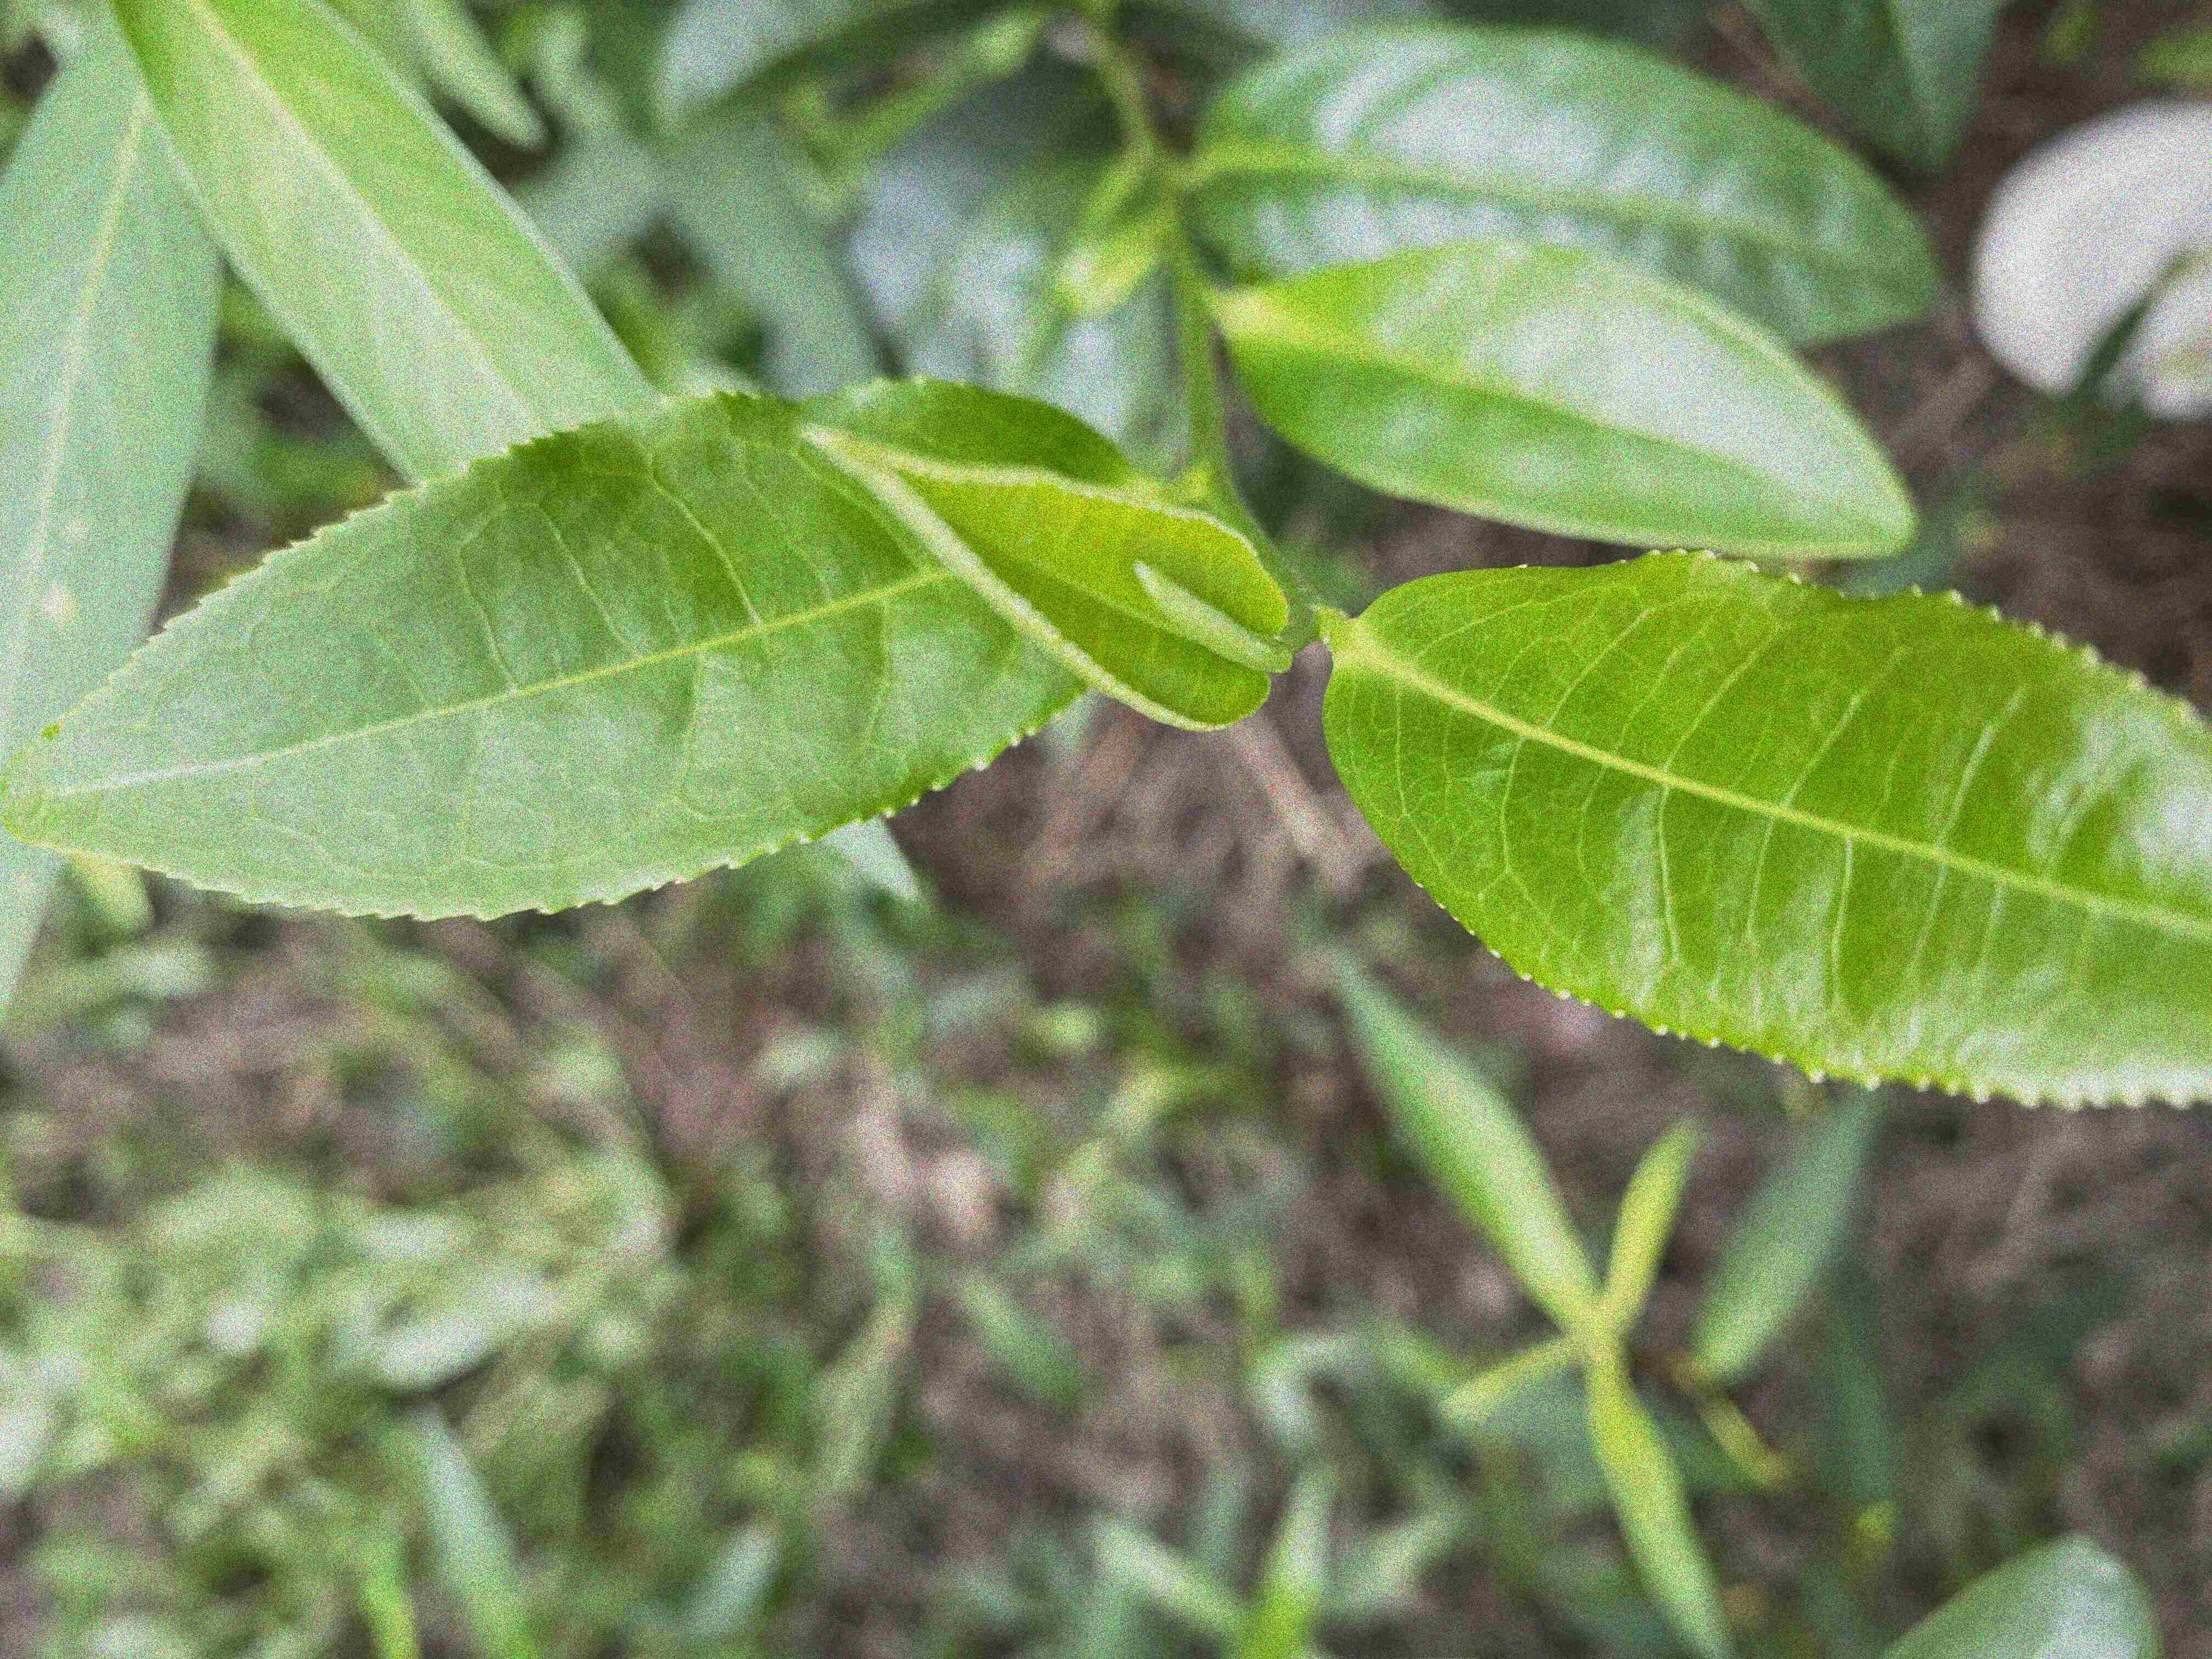healthy: (7, 376, 1160, 924), (1322, 544, 2210, 1117), (803, 436, 1292, 734)
